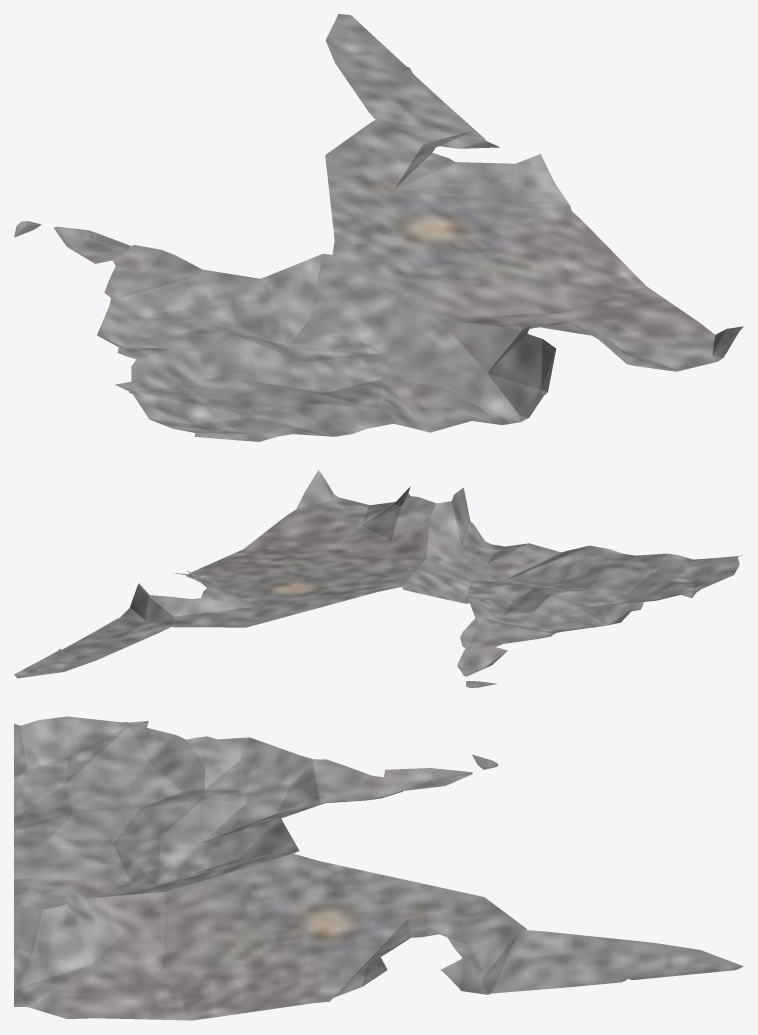
3 renders of one model, top to bottom at view 1: azimuth 30°, elevation 25°; view 2: azimuth 150°, elevation 25°; view 3: azimuth 270°, elevation 25°, orthographic. The views are drawn at different scales.
Size of the model in its own units: 0.5769 by 0.0634 by 0.7015.
1 material, 1 textured.
